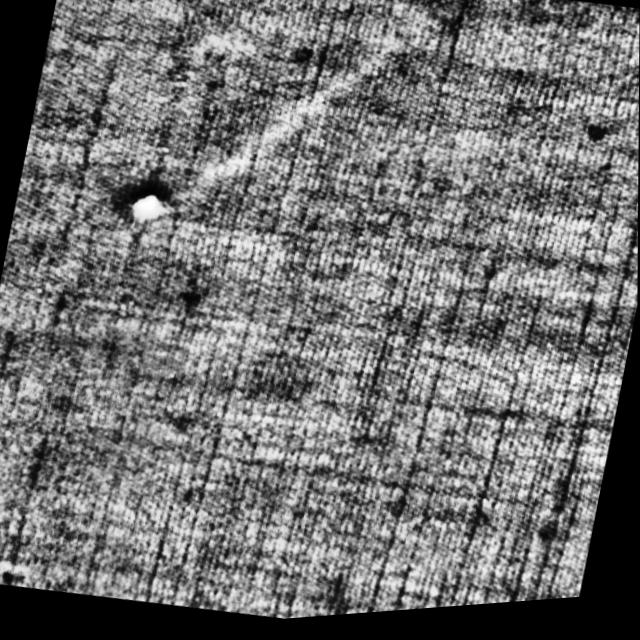Hole: (117, 184, 173, 232)
